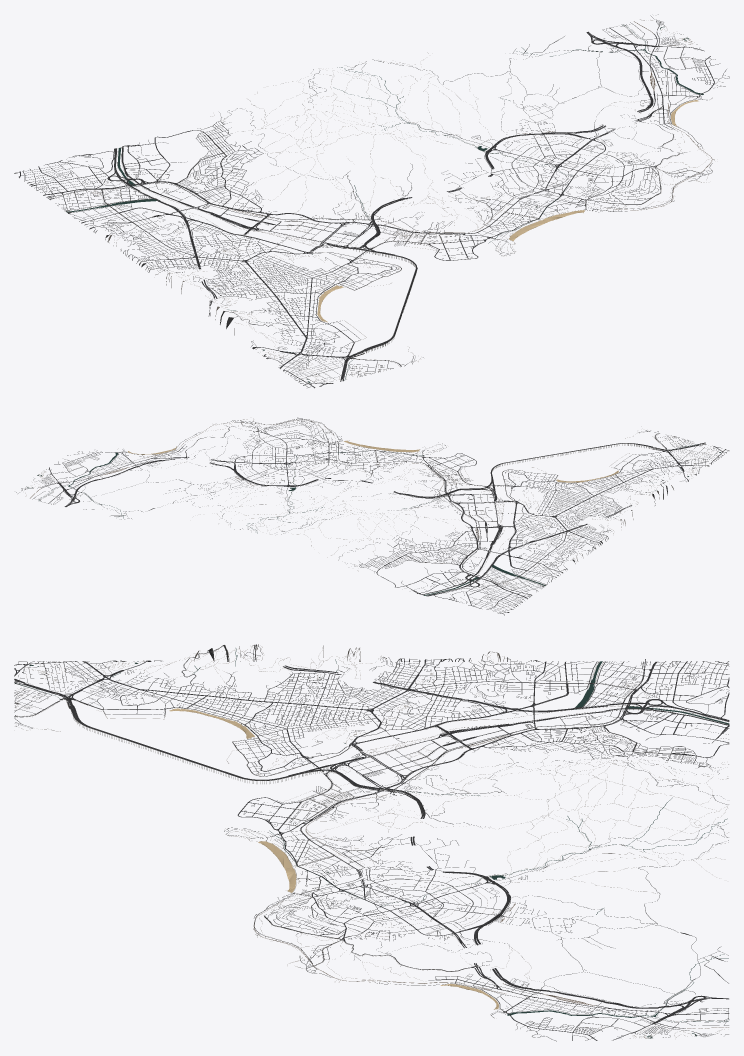
The model's file is roads.glb.
3 renders of one model, top to bottom at view 1: azimuth 30°, elevation 25°; view 2: azimuth 150°, elevation 25°; view 3: azimuth 270°, elevation 25°, orthographic. The views are drawn at different scales.
Visible parts, largest first — view 1: Bridges_Overpasses, Rivers_Ponds, Roads_1_3, Roads_0_6, Roads_2_6, Roads_0_0, Roads_6_4, Roads_1_4, Roads_0_4, Roads_0_7, Roads_5_3, Roads_6_3 (+11 smaller); view 2: Bridges_Overpasses, Roads_0_4, Roads_1_3, Roads_0_6, Roads_1_4, Rivers_Ponds, Roads_6_4, Roads_2_6, Roads_0_0, Roads_5_3, Roads_0_7, Roads_9_6 (+12 smaller); view 3: Bridges_Overpasses, Rivers_Ponds, Roads_0_4, Roads_1_4, Roads_1_3, Roads_0_0, Roads_6_4, Roads_0_6, Roads_9_6, Roads_5_3, Roads_1_5, Roads_1_6 (+19 smaller).
Boxes of the visible parts, bbox=[...] form: Bridges_Overpasses: bbox=[48, 25, 702, 379]; Rivers_Ponds: bbox=[66, 25, 703, 382]; Roads_1_3: bbox=[224, 253, 324, 292]; Roads_0_6: bbox=[63, 188, 148, 232]; Roads_2_6: bbox=[181, 141, 283, 202]; Roads_0_0: bbox=[270, 347, 373, 388]; Roads_6_4: bbox=[506, 150, 599, 196]; Roads_1_4: bbox=[182, 228, 295, 271]; Roads_0_4: bbox=[128, 242, 231, 275]; Roads_0_7: bbox=[27, 164, 127, 206]; Roads_5_3: bbox=[475, 194, 565, 238]; Roads_6_3: bbox=[536, 178, 653, 212]; Bridges_Overpasses: bbox=[25, 417, 705, 594]; Roads_0_4: bbox=[542, 517, 613, 550]; Roads_1_3: bbox=[526, 489, 602, 516]; Roads_0_6: bbox=[483, 559, 566, 590]; Roads_1_4: bbox=[501, 505, 580, 540]; Rivers_Ponds: bbox=[27, 444, 720, 595]; Roads_6_4: bbox=[263, 445, 349, 477]; Roads_2_6: bbox=[387, 526, 469, 563]; Roads_0_0: bbox=[656, 439, 729, 470]; Roads_5_3: bbox=[338, 445, 417, 469]; Roads_0_7: bbox=[467, 578, 538, 607]; Roads_9_6: bbox=[62, 453, 141, 482]; Bridges_Overpasses: bbox=[14, 659, 729, 1035]; Rivers_Ponds: bbox=[14, 648, 729, 1038]; Roads_0_4: bbox=[353, 651, 456, 707]; Roads_1_4: bbox=[353, 692, 456, 737]; Roads_1_3: bbox=[271, 692, 365, 736]; Roads_0_0: bbox=[14, 661, 110, 700]; Roads_6_4: bbox=[353, 868, 456, 920]; Roads_0_6: bbox=[526, 660, 629, 706]; Roads_9_6: bbox=[526, 986, 629, 1029]; Roads_5_3: bbox=[270, 837, 363, 883]; Roads_1_5: bbox=[438, 690, 537, 737]; Roads_1_6: bbox=[526, 692, 626, 736].
Size of the model in its own units: 10409 by 635 by 8280.
